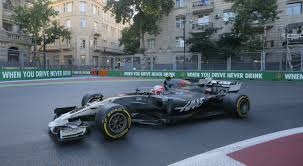f1_car: (45, 72, 254, 151)
